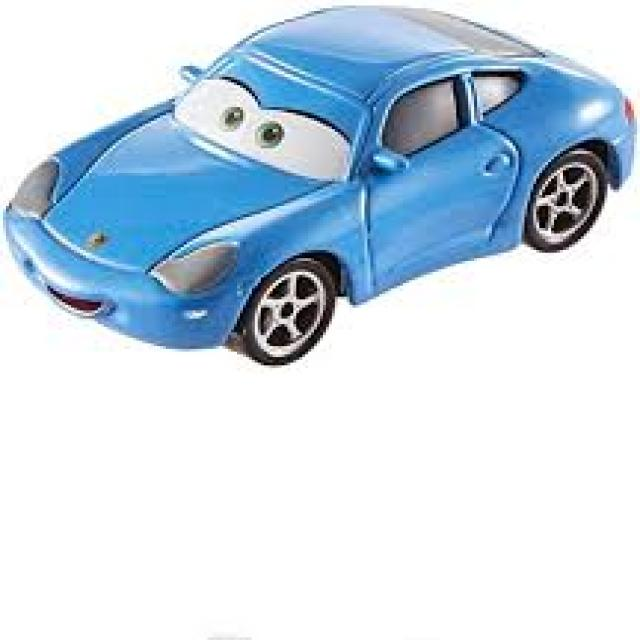Car: (0, 0, 637, 365)
